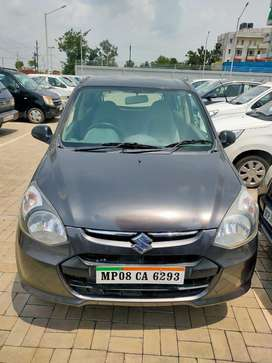MP08CA6293: (95, 265, 184, 284)
